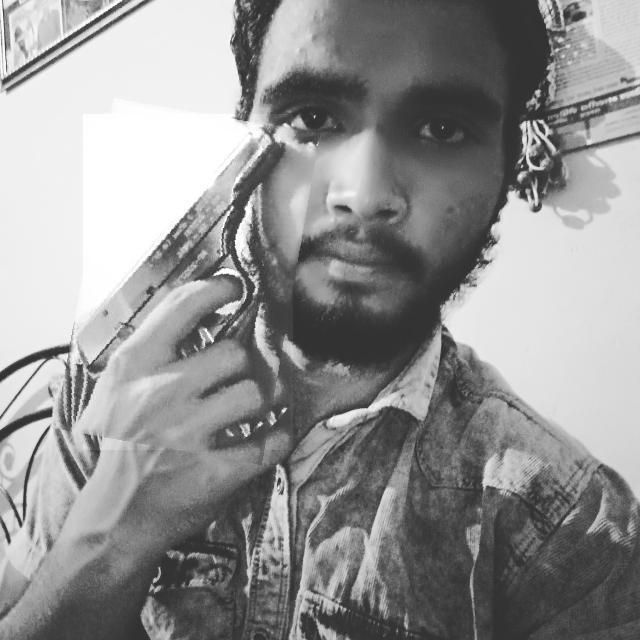Handgun: (69, 107, 307, 458)
